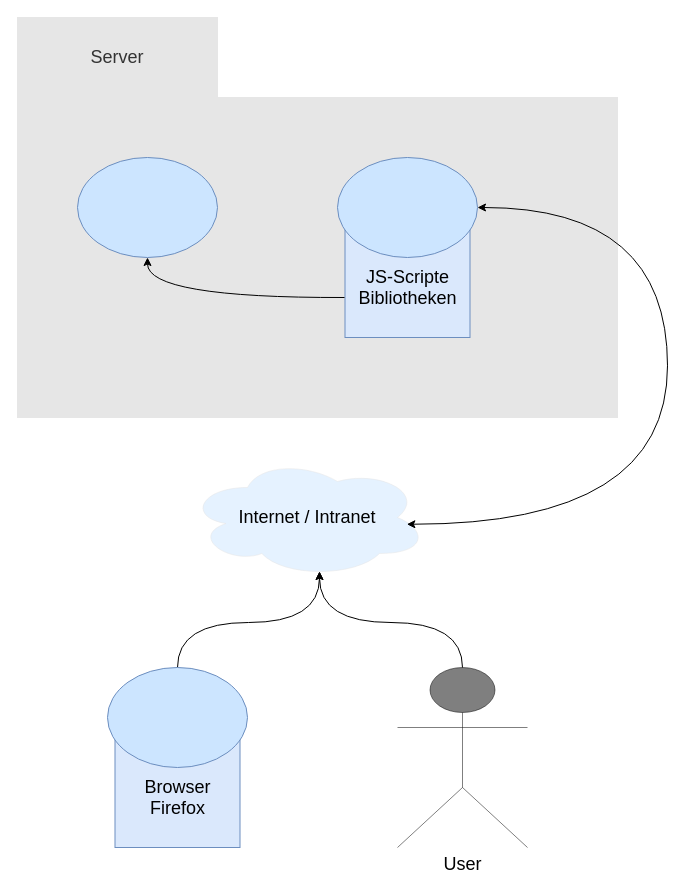
Some shapes in this 685 by 894 pixel diagram are drawn without their labels. Here are the shapes that lost their labels. From the top down, the centre of each, then its label:
[147,207]: Datenbank Neo4j
[407,207]: Webserver Apache
[177,717]: Desktop PC
